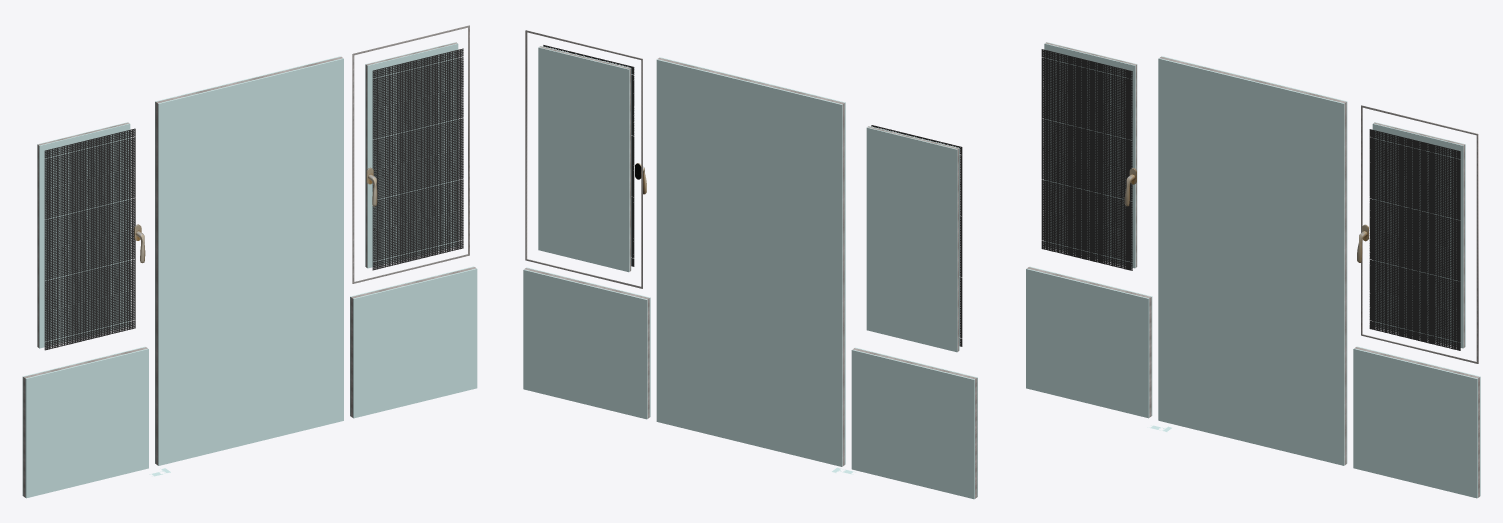
3 views of the same model, side by side, from view 1: azimuth 30°, elevation 25°; view 2: azimuth 150°, elevation 25°; view 3: azimuth 330°, elevation 25° (orthographic).
Visible parts, largest first — view 1: frame; view 2: frame; view 3: frame.
Part boxes in pixels (x1,y1,x2,y2): frame: (22,25,477,498); frame: (523,30,977,499); frame: (1026,42,1480,498).
Bounding box in the file's own units: 2396 × 1851 × 124.
6 materials, 6 textured.
